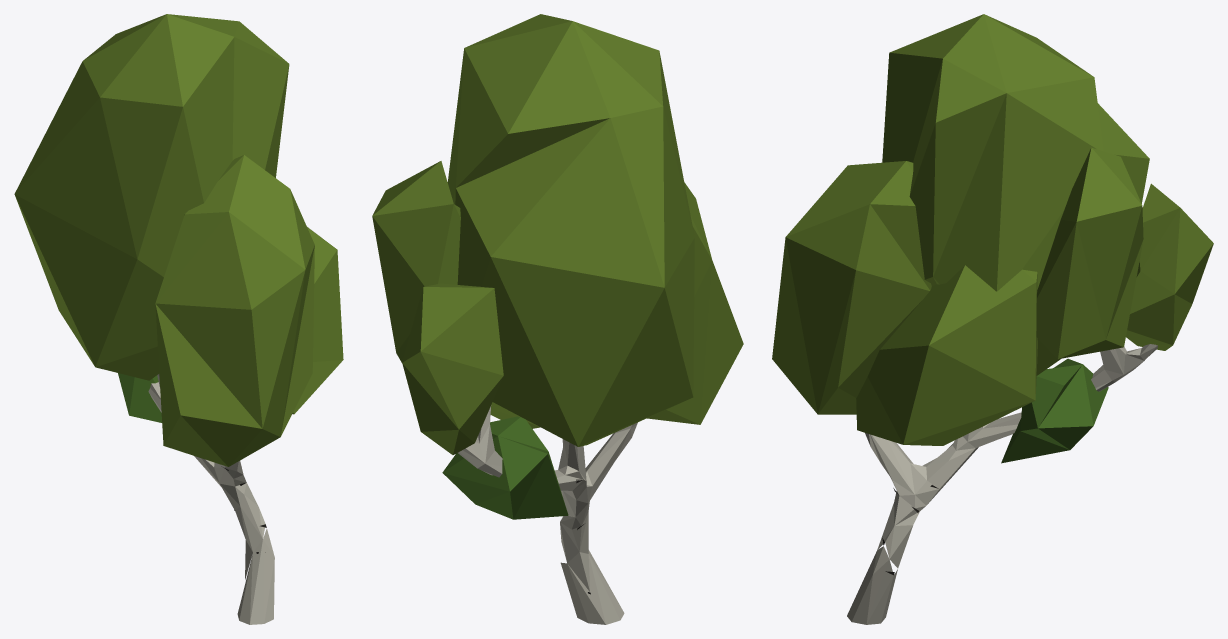
File: birch_a.glb
3 renders of one model, left to right at view 1: azimuth 30°, elevation 25°; view 2: azimuth 150°, elevation 25°; view 3: azimuth 270°, elevation 25°, orthographic. The views are drawn at different scales.
Visible parts, largest first — view 1: birch_a; view 2: birch_a; view 3: birch_a.
Boxes of the visible parts, x1,y1,x2,y2 form: birch_a: (14, 14, 343, 624); birch_a: (372, 14, 743, 624); birch_a: (772, 14, 1213, 624).
Bounding box in the file's own units: 1.72 × 3.6 × 2.46.
